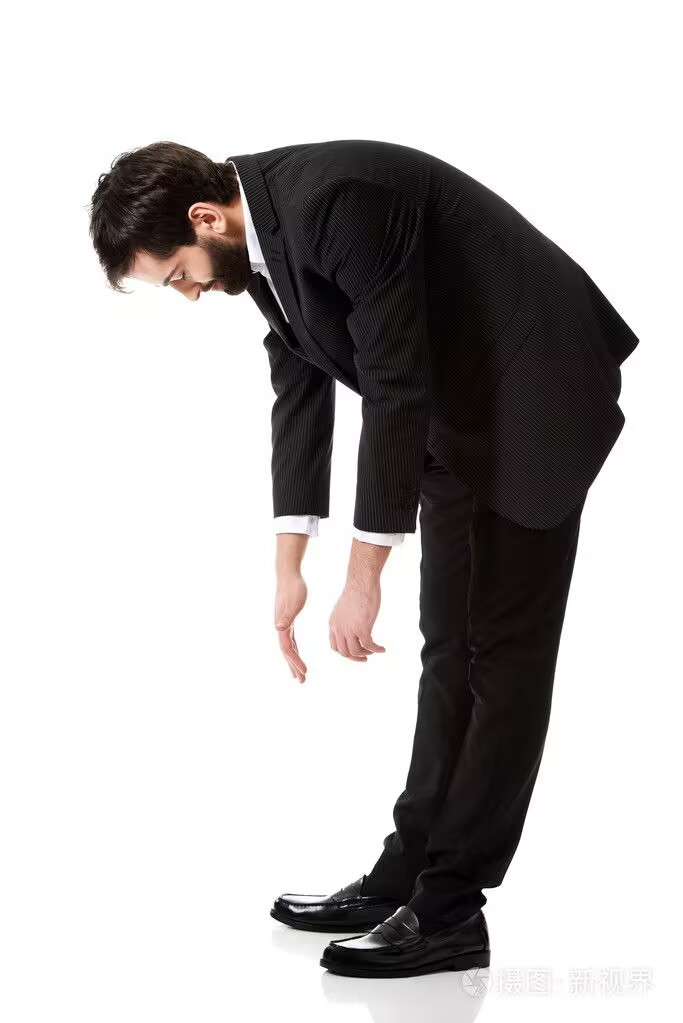bending: (55, 106, 636, 992)
